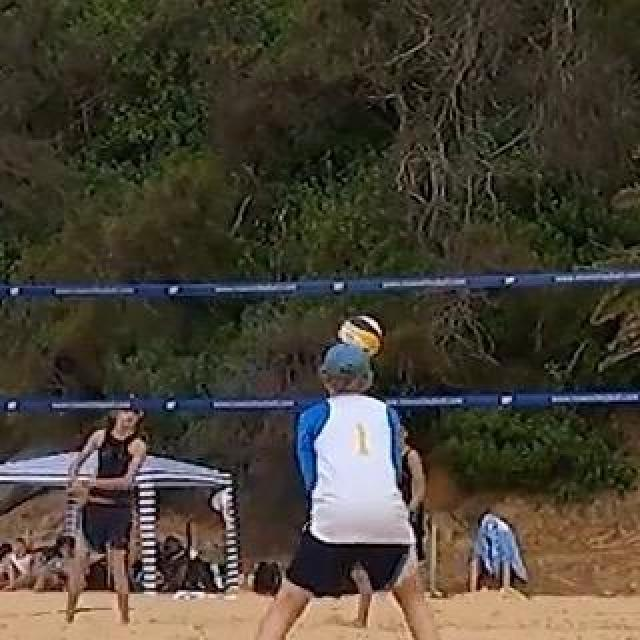volleyball: (339, 316, 383, 358)
